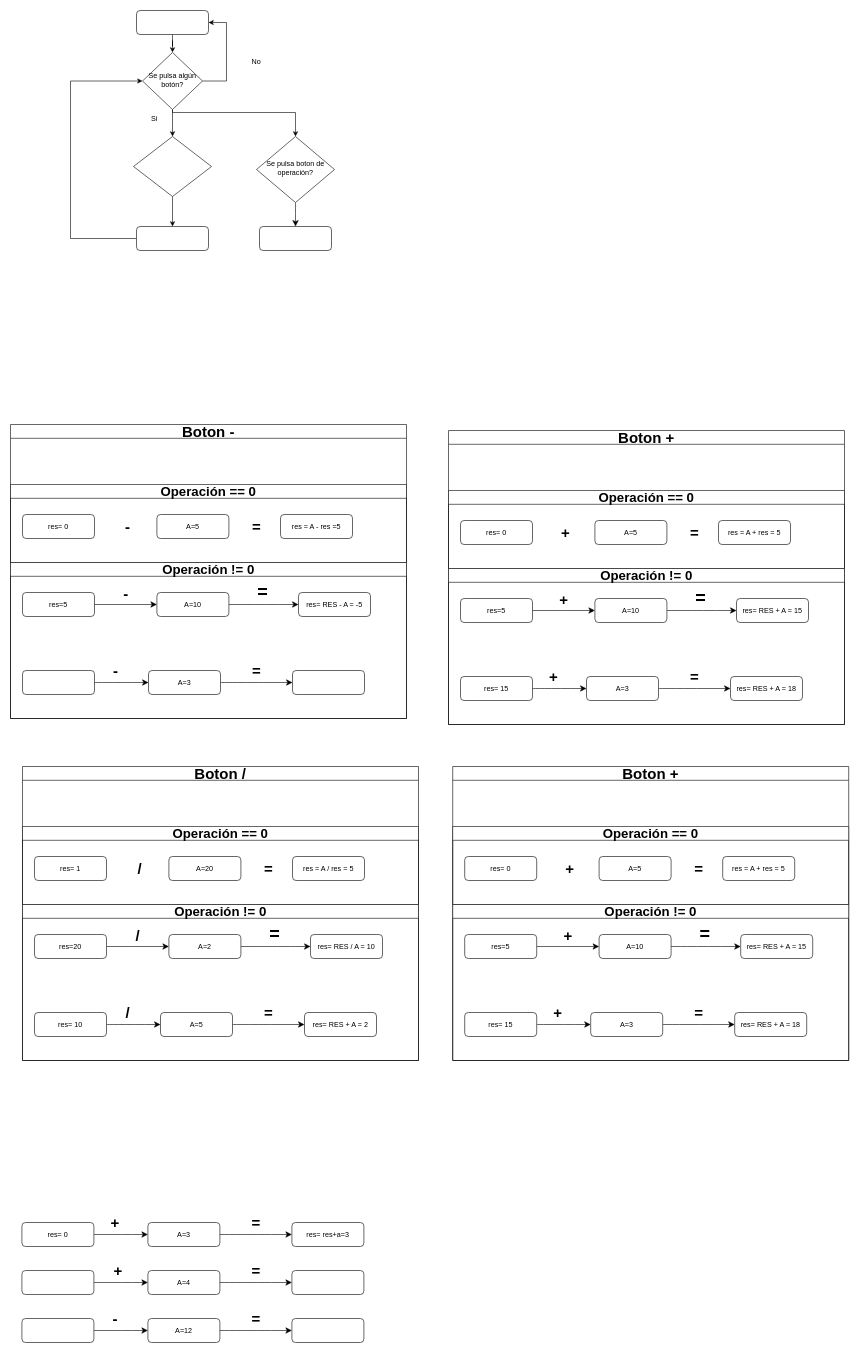
Image size: 859x1353. Some labels were removed from this diagram. The shapes that lost their labels are listed below. From the top down, each one's centre as x and y in pixels, then its label:
At pixel 172 22: "OPERACION = 0".
At pixel 172 166: "Es un número?".
At pixel 172 238: "Leo un valor y lo concateno en la variable A".
At pixel 295 238: "Lo que tengo almacenado en mi variable A pasa a B".
At pixel 58 682: "res= -5".
At pixel 328 682: "res=-8".
At pixel 57 1282: "res= 3".
At pixel 327 1282: "res= res + a =7".
At pixel 57 1330: "res= 7".
At pixel 327 1330: "res=res - a = -5".
